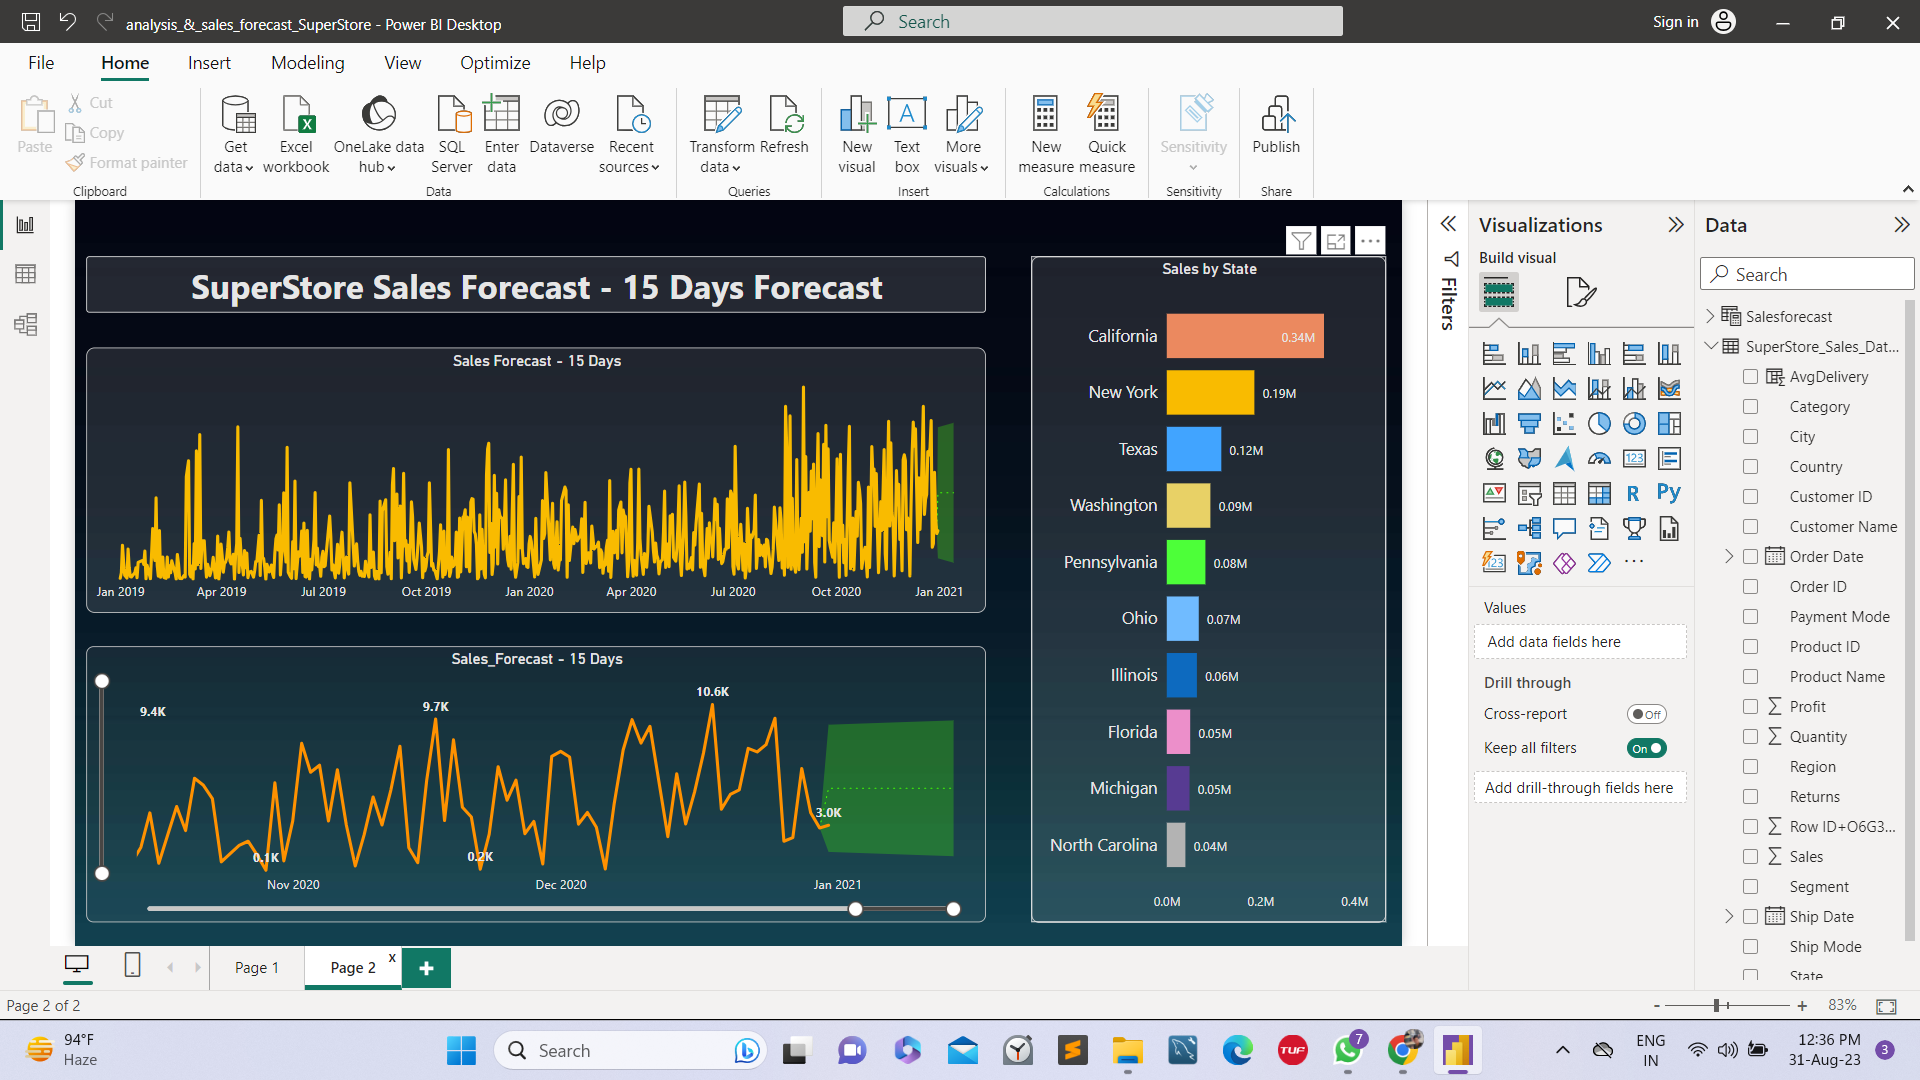

The page's visual inventory and layout, read from the dashboard file:
{"tool":"powerbi","page":{"name":"Page 2","canvas":[1280,720],"ordinal":1},"visuals":[{"type":"lineChart","title":"Sales Forecast - 15 Days","fields":{"Y":["Sum(SuperStore_Sales_Dataset.Sales)"],"Category":["SuperStore_Sales_Dataset.Order Date"]},"box":[10.9,142.3,868.3,255.7],"z":0},{"type":"lineChart","title":"Sales_Forecast - 15 Days","fields":{"Y":["Sum(SuperStore_Sales_Dataset.Sales)"],"Category":["SuperStore_Sales_Dataset.Order Date"]},"box":[10.9,430.6,868.3,266.5],"z":1000},{"type":"clusteredBarChart","title":" Sales by State","fields":{"Y":["Sum(SuperStore_Sales_Dataset.Sales)"],"Category":["SuperStore_Sales_Dataset.State"]},"box":[922.6,54.3,342.5,642.8],"z":2000},{"type":"textbox","box":[10.9,54.3,868.3,54.3],"z":3000}]}

Visuals, with their boxes on the page's 1280x720 design canvas (x1, y1, x2, y2). These are canvas units, not pixel positions in the 1920x1080 screenshot, which may show the page scaled, cropped or inside an application window:
"Sales Forecast - 15 Days" lineChart: region(11, 142, 879, 398)
"Sales_Forecast - 15 Days" lineChart: region(11, 431, 879, 697)
" Sales by State" clusteredBarChart: region(923, 54, 1265, 697)
textbox: region(11, 54, 879, 109)
